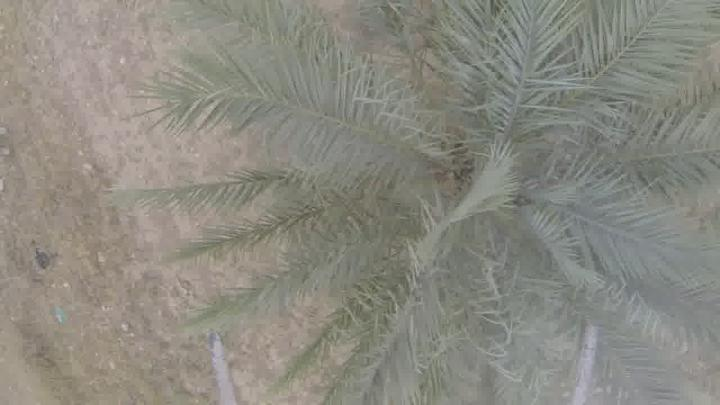Date-Palm-Crown: (270, 34, 658, 338)
